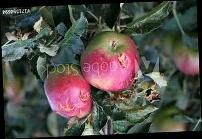rotten apple: (80, 30, 142, 92), (40, 66, 92, 122)
